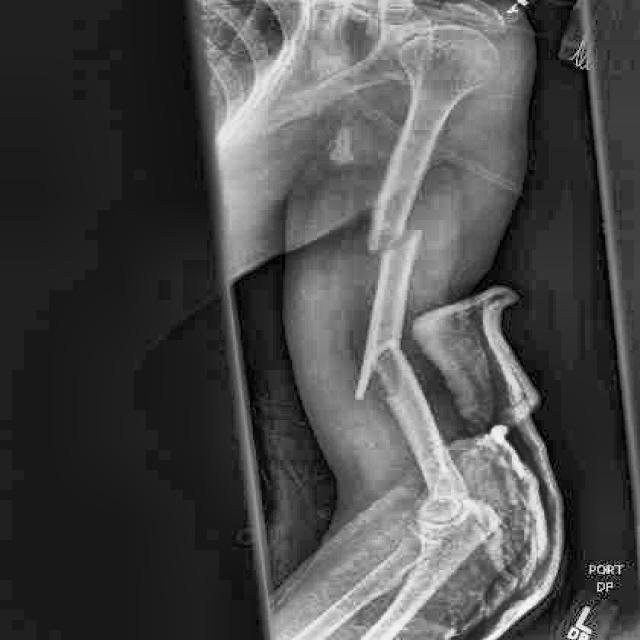humerus: (317, 307, 455, 443), (331, 182, 460, 292)
